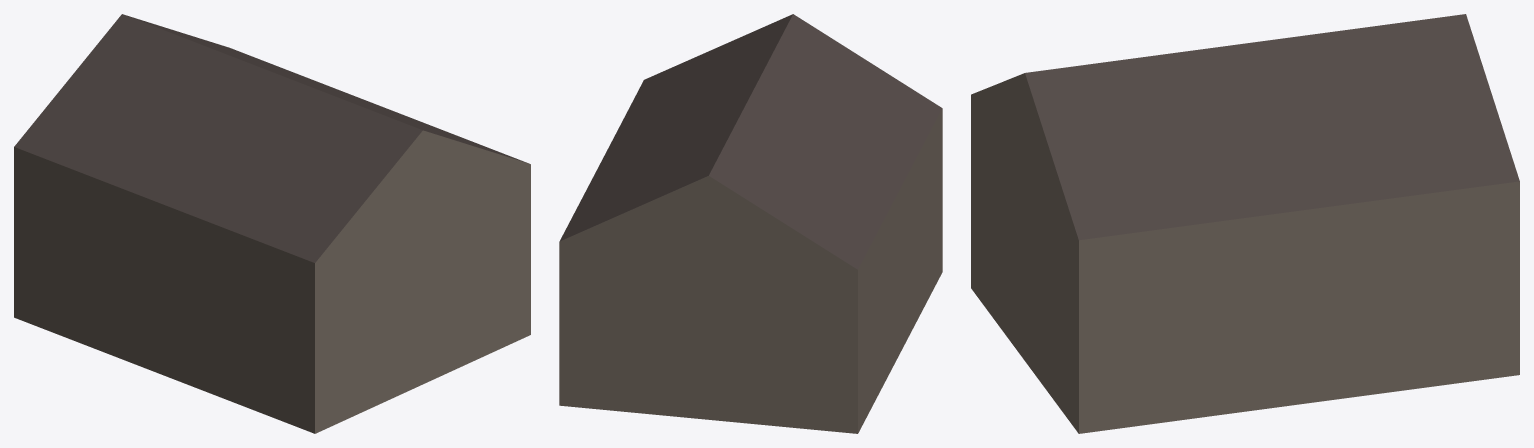
3 views of the same model, side by side, from view 1: azimuth 30°, elevation 25°; view 2: azimuth 150°, elevation 25°; view 3: azimuth 270°, elevation 25° (orthographic). The views are drawn at different scales.
Visible parts, largest first — view 1: HP-w1198840871; view 2: HP-w1198840871; view 3: HP-w1198840871.
Part boxes in pixels (box(x1,y1,x2,y2)): HP-w1198840871: box(14, 14, 530, 433); HP-w1198840871: box(559, 14, 942, 433); HP-w1198840871: box(971, 14, 1519, 433).
Size of the model in its own units: 13.6 by 8.93 by 15.41.
